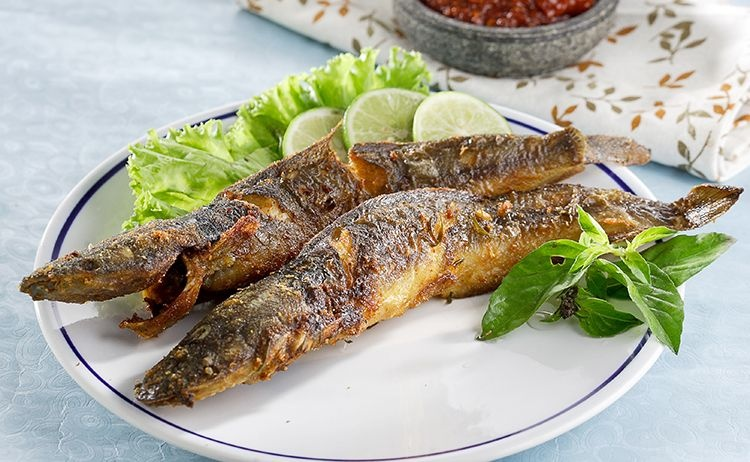pecel_lele: (20, 130, 626, 323), (130, 185, 489, 411)
